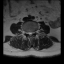CCS_stenosis: (29, 30, 31, 37)
LFS_normal: (33, 29, 35, 35)
LLS_normal: (31, 30, 33, 36)
RFS_normal: (25, 29, 27, 35)
RLS_normal: (27, 30, 29, 36)
